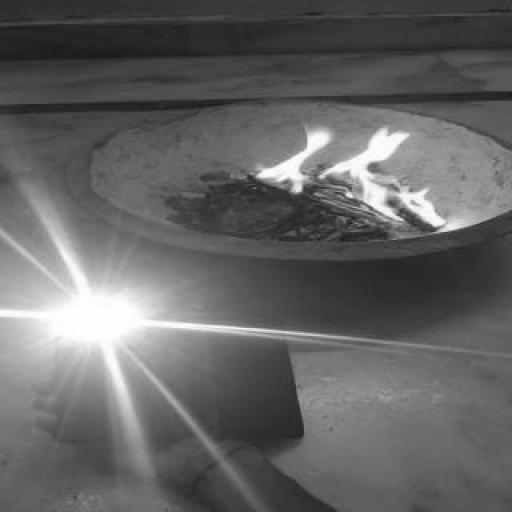smoke: (264, 117, 448, 229)
